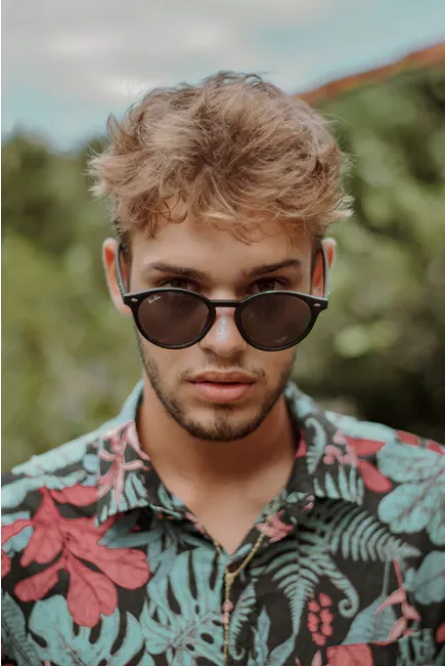face: (130, 204, 319, 438)
